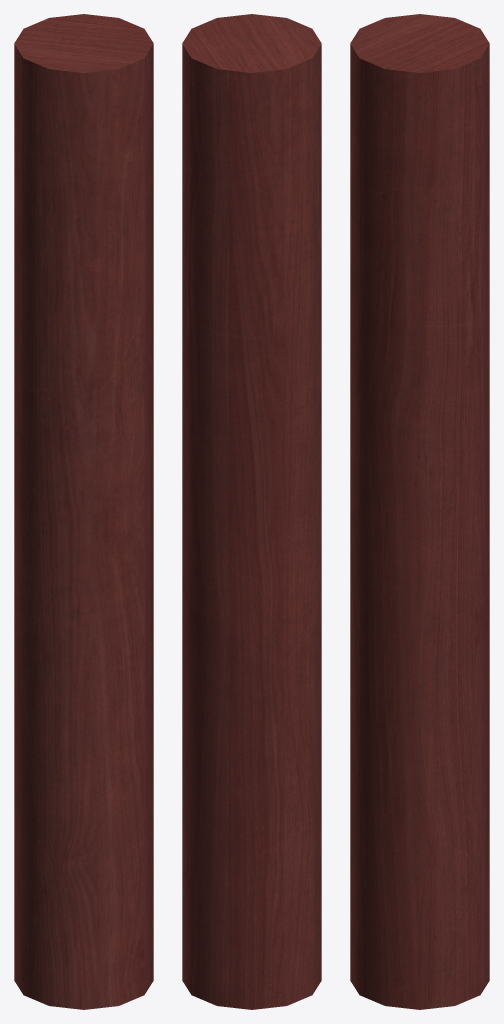
The model's file is SM_Pillar02A.fbx.
The picture shows the model from 3 angles, left to right: view 1: azimuth 30°, elevation 25°; view 2: azimuth 150°, elevation 25°; view 3: azimuth 270°, elevation 25°; orthographic projection.
Visible parts, largest first — view 1: SM_Pillar02A; view 2: SM_Pillar02A; view 3: SM_Pillar02A.
Boxes of the visible parts, x1,y1,x2,y2 form: SM_Pillar02A: [14, 14, 153, 1009]; SM_Pillar02A: [182, 14, 321, 1009]; SM_Pillar02A: [350, 14, 489, 1009].
Bounding box in the file's own units: 45.21 × 45.21 × 335.
